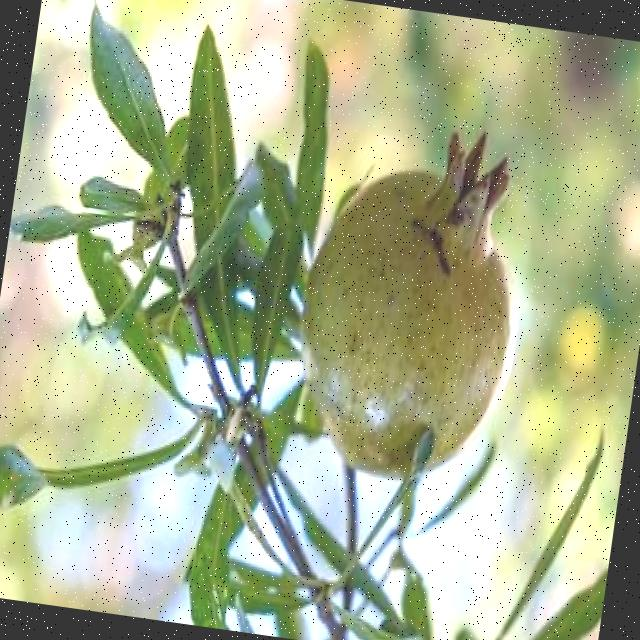Pomegranate: (278, 109, 544, 494)
